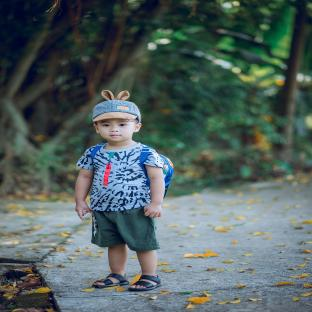Human: (75, 90, 172, 291)
